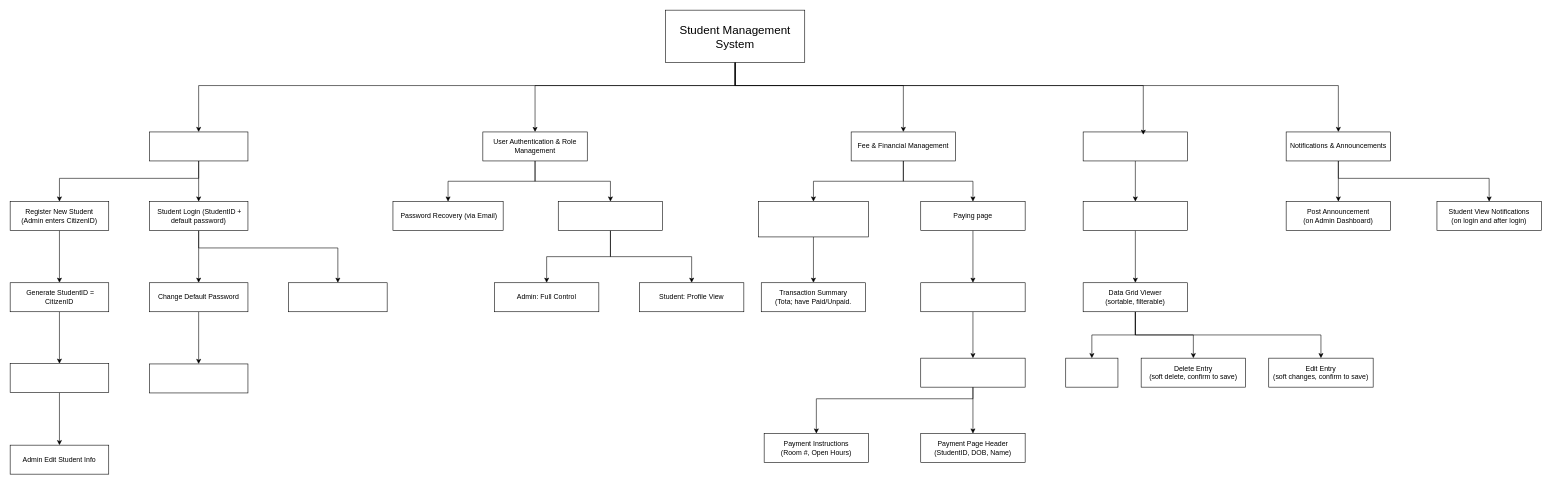
Image size: 1552x484. Some labels were removed from this diagram. Each missing label, with the centre of its shape:
"Admin Dashboard & Data Management" goes at point 1135,146.
"Export Data (export row)" goes at point 1091,372.
"Fee Line-Item List (Code, Description, Period, Amount, Due Date, Status)" goes at point 972,297.
"Issue Temporary Password (Date of Birth)" goes at point 59,378.
"Selectable Fees for Payment(checkboxes)" goes at point 972,372.
"Student Registration & Profile Management" goes at point 198,146.
"Table Selector (Students, Payments)" goes at point 1135,216.
"Update Profile (DOB, Gender, Address, Contact, Email, Photo)" goes at point 198,378.
"User Login (Username/Password)" goes at point 610,216.
"View Financial Summary (StudentID, DOB, Name, Status, Balance, Next Due)" goes at point 813,219.
"View Student Info" goes at point 337,297.
